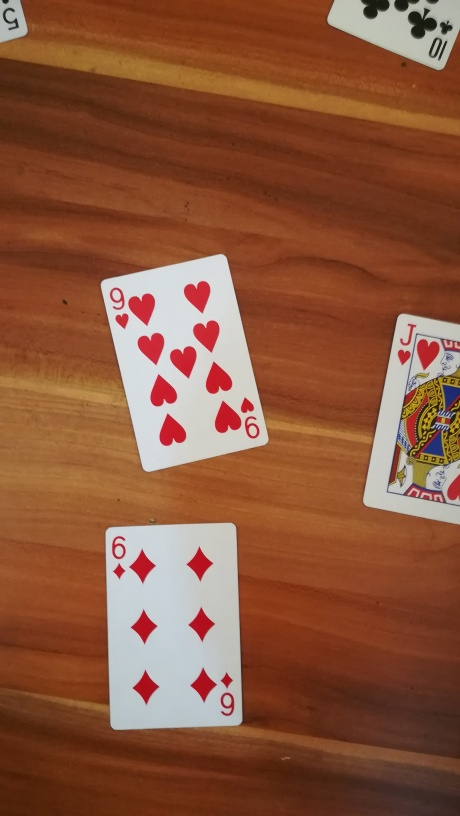fk 6: (97, 513, 264, 733)
hx 9: (95, 250, 281, 480)
hx j: (361, 305, 460, 524)
